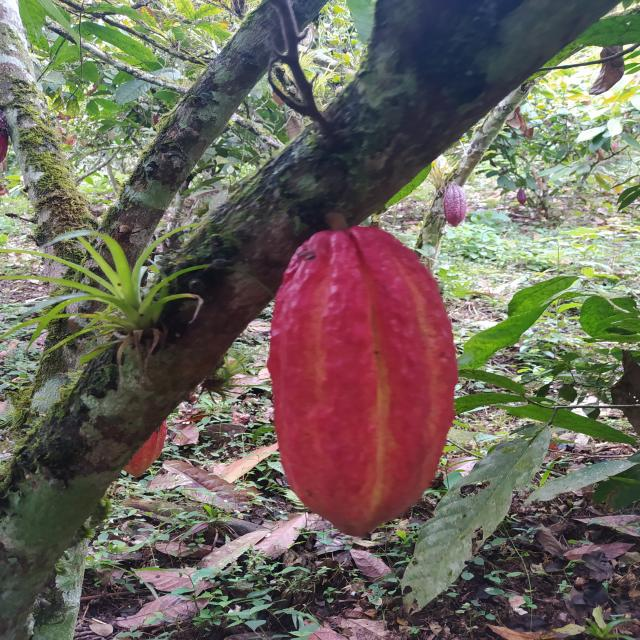Sana: (268, 225, 461, 538), (443, 183, 467, 228)
